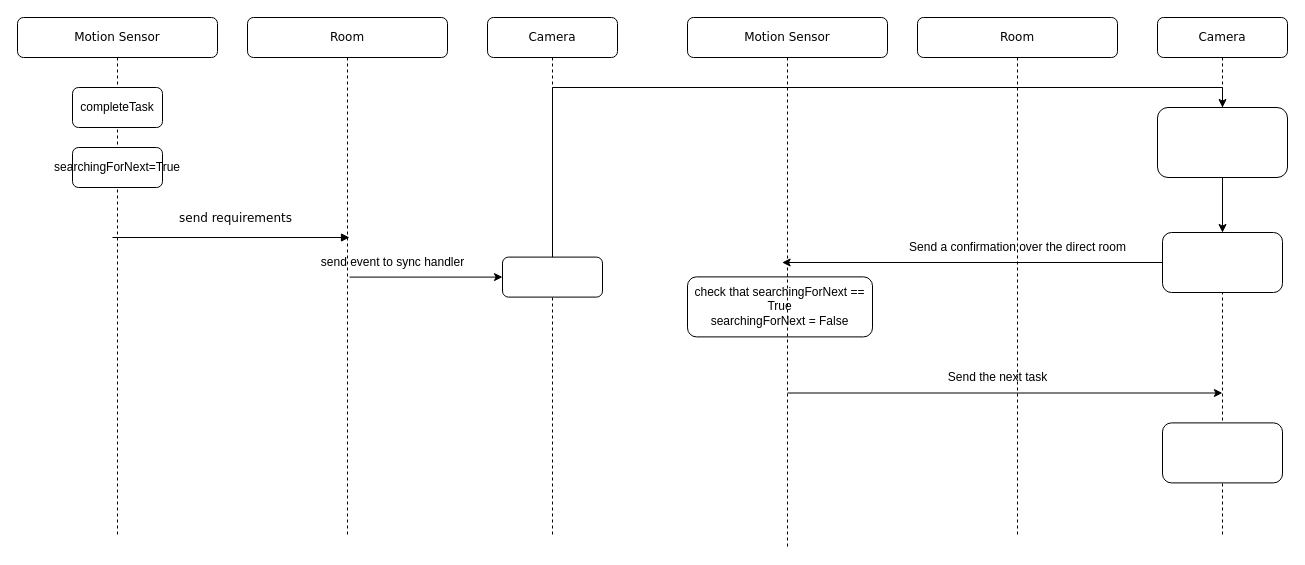
Image size: 1305x565. Some labels were removed from this diagram. The shapes that lost their labels are listed below. From the top down, each one's centre as x and y in pixels, then its label:
At (1222,142): "evaulates requirements using requirementsCheck function".
At (552,276): "synchandler".
At (1222,262): "find or create a direct room".
At (1222,452): "set the currentTask attribute call completeTask".
